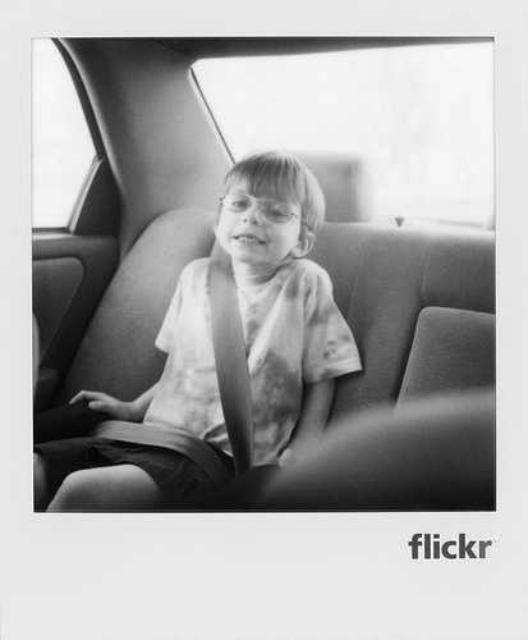Seatbelt: (94, 234, 262, 494)
